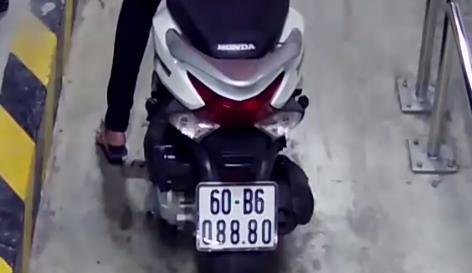lisence: (197, 181, 277, 250)
